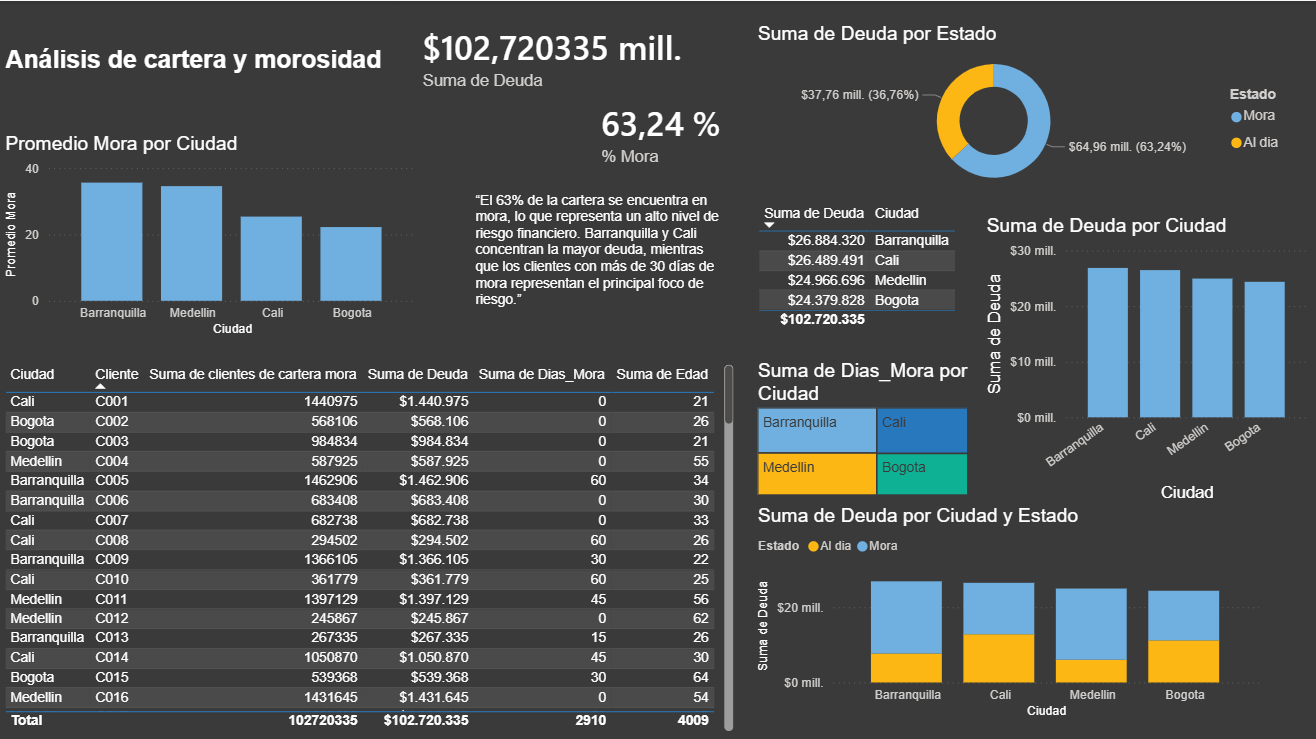

What the dashboard file says about the page in this screenshot:
{"tool":"powerbi","page":{"name":"Página 1","canvas":[1280,720],"ordinal":0},"visuals":[{"type":"tableEx","fields":{"Values":["Sum(Tabla1.Deuda)","Tabla1.Ciudad"]},"box":[727.3,190.7,233.3,155.1],"z":0},{"type":"columnChart","fields":{"Category":["Tabla1.Ciudad"],"Y":["Sum(Tabla1.Deuda)"]},"box":[948.2,205.8,319.7,281.3],"z":1000},{"type":"cardVisual","fields":{"Data":["Sum(Tabla1.Deuda)"]},"box":[378.8,0,318.5,106.2],"z":2000},{"type":"columnChart","fields":{"Category":["Tabla1.Ciudad"],"Series":["Tabla1.Estado"],"Y":["Sum(Tabla1.Deuda)"]},"box":[727.6,486.7,494,210.3],"z":3000},{"type":"donutChart","fields":{"Y":["Sum(Tabla1.Deuda)"],"Category":["Tabla1.Estado"]},"box":[727.6,20.8,529.5,170],"z":4000},{"type":"tableEx","fields":{"Values":["Tabla1.Ciudad","Tabla1.Cliente","Sum(Tabla1.clientes de cartera mora)","Sum(Tabla1.Deuda)","Sum(Tabla1.Dias_Mora)","Sum(Tabla1.Edad)"]},"box":[0,346.1,714.1,363.2],"z":5000},{"type":"textbox","box":[1.2,38.6,395.7,76],"z":6000},{"type":"treemap","fields":{"Group":["Tabla1.Ciudad"],"Values":["Sum(Tabla1.Dias_Mora)"]},"box":[727.6,346.1,212.8,135.7],"z":9000},{"type":"columnChart","fields":{"Category":["Tabla1.Ciudad"],"Y":["Tabla1.Promedio Mora"]},"box":[1.2,126.7,406.6,201.5],"z":9001},{"type":"cardVisual","fields":{"Data":["Tabla1.% Mora"]},"box":[551.3,73.6,176.1,106.2],"z":9002},{"type":"textbox","box":[454.8,179.8,250.9,160.5],"z":9003}]}

Visuals, with their boxes in screenshot pixels (x1, y1, x2, y2), scaled from the page's 1280x720 canvas onto the 1316x739 screenshot:
tableEx - Sum(Tabla1.Deuda) x Tabla1.Ciudad: <bbox>748, 196, 988, 355</bbox>
columnChart - Tabla1.Ciudad x Sum(Tabla1.Deuda): <bbox>975, 211, 1304, 500</bbox>
cardVisual - Sum(Tabla1.Deuda): <bbox>389, 0, 717, 109</bbox>
columnChart - Tabla1.Ciudad x Tabla1.Estado: <bbox>748, 500, 1256, 715</bbox>
donutChart - Sum(Tabla1.Deuda) x Tabla1.Estado: <bbox>748, 21, 1292, 196</bbox>
tableEx - Tabla1.Ciudad x Tabla1.Cliente: <bbox>0, 355, 734, 728</bbox>
textbox: <bbox>1, 40, 408, 118</bbox>
treemap - Tabla1.Ciudad x Sum(Tabla1.Dias_Mora): <bbox>748, 355, 967, 495</bbox>
columnChart - Tabla1.Ciudad x Tabla1.Promedio Mora: <bbox>1, 130, 419, 337</bbox>
cardVisual - Tabla1.% Mora: <bbox>567, 76, 748, 185</bbox>
textbox: <bbox>468, 185, 726, 349</bbox>
